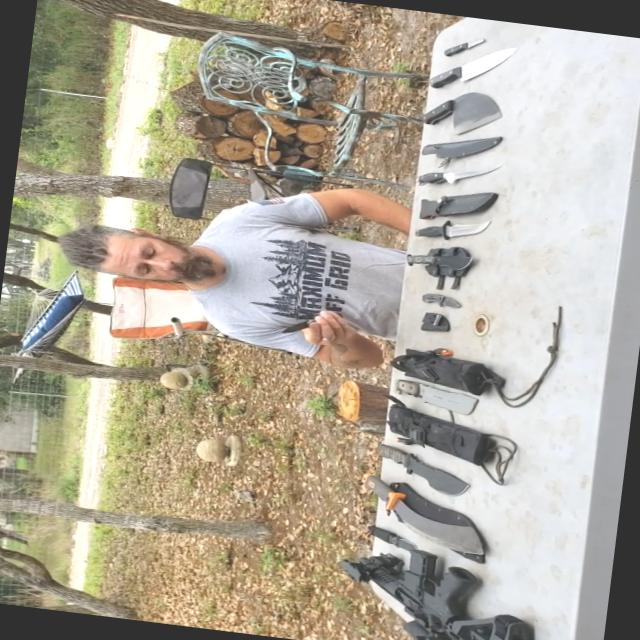knife: (351, 462, 493, 562), (354, 434, 481, 511), (426, 28, 524, 98), (380, 366, 496, 424), (404, 83, 520, 140), (398, 155, 502, 203), (402, 209, 488, 253), (397, 240, 492, 279), (276, 298, 354, 343), (406, 282, 480, 318), (354, 520, 422, 554), (434, 28, 492, 61)
long weapon: (294, 528, 581, 639)
